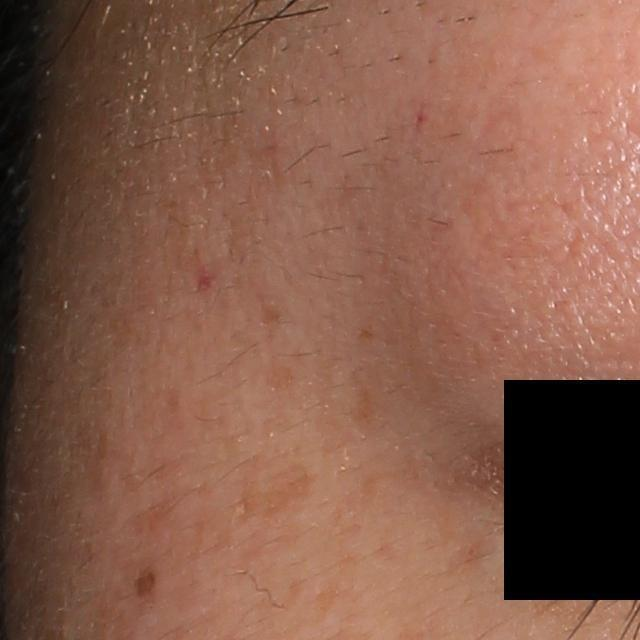melasma: (227, 456, 315, 536), (439, 523, 500, 584), (343, 376, 379, 448)
nevus: (127, 563, 165, 602)
